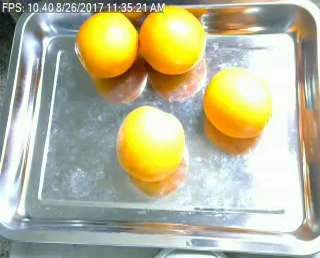Orange: (115, 105, 185, 183), (202, 65, 275, 139), (137, 6, 206, 74), (74, 10, 138, 78)
